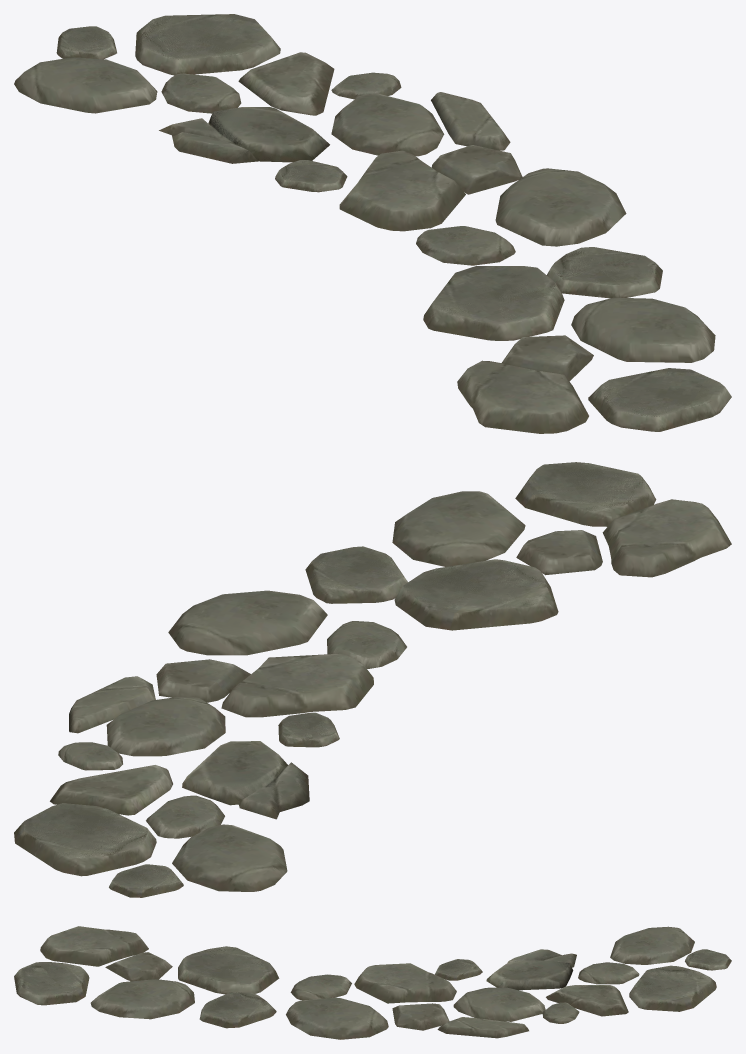
3 renders of one model, top to bottom at view 1: azimuth 30°, elevation 25°; view 2: azimuth 150°, elevation 25°; view 3: azimuth 270°, elevation 25°, orthographic. The views are drawn at different scales.
Bounding box in the file's own units: 5.32 × 0.298 × 14.8.
1 material, 1 textured.
